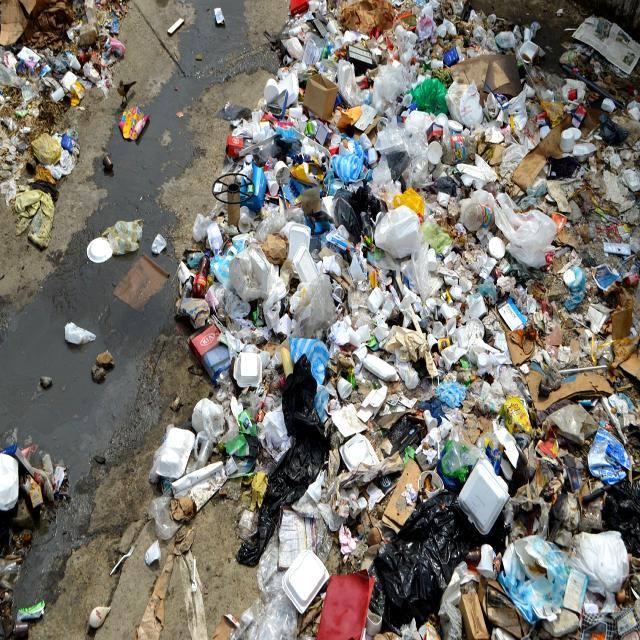Garbage: (143, 0, 640, 640)
